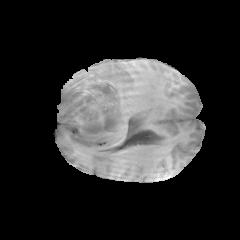glioma: (57, 61, 130, 145)
